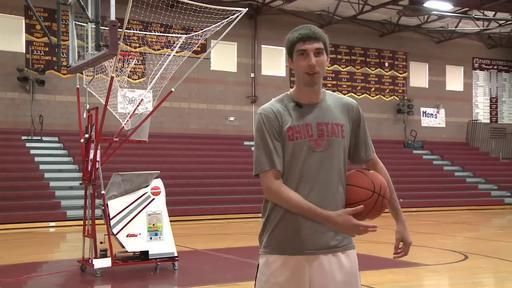ball: (346, 168, 390, 221)
human: (254, 24, 412, 288)
rim: (104, 52, 138, 88)
